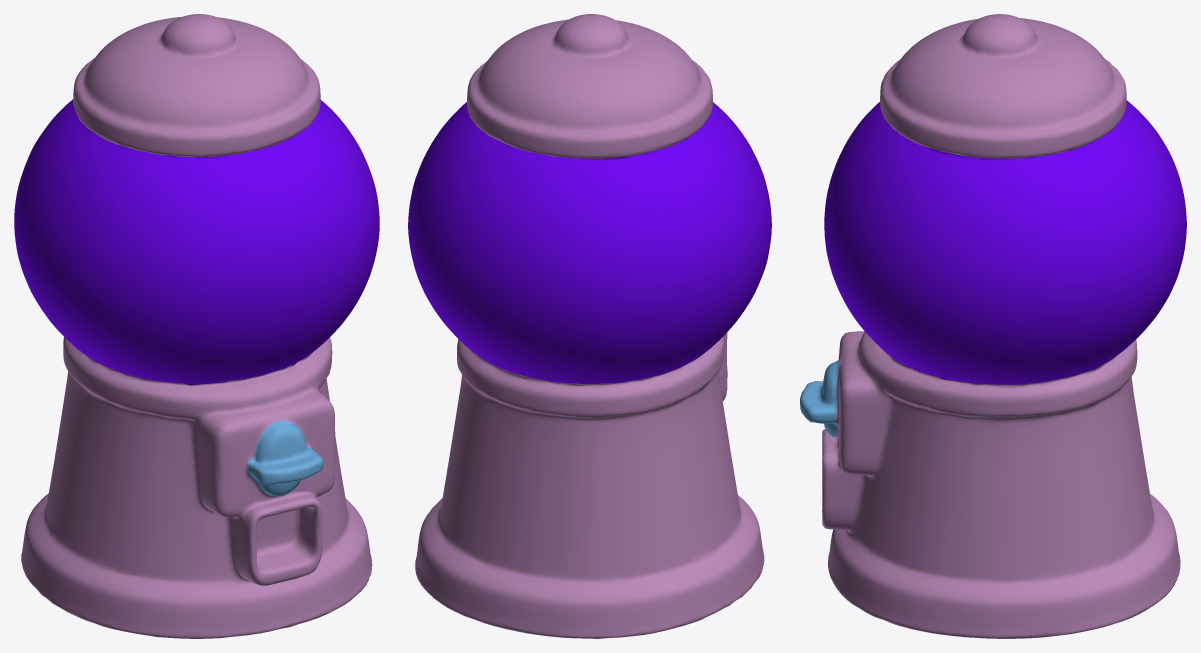
File: gumMechine.fbx
3 views of the same model, side by side, from view 1: azimuth 30°, elevation 25°; view 2: azimuth 150°, elevation 25°; view 3: azimuth 270°, elevation 25° (orthographic).
Parts seen in each view (by area): view 1: pasted__pasted__model; view 2: pasted__pasted__model; view 3: pasted__pasted__model.
Boxes of the visible parts, bbox=[...] form: pasted__pasted__model: bbox=[14, 14, 379, 638]; pasted__pasted__model: bbox=[408, 14, 771, 638]; pasted__pasted__model: bbox=[800, 14, 1186, 638].
Bounding box in the file's own units: 3.4 × 5.69 × 3.61.
